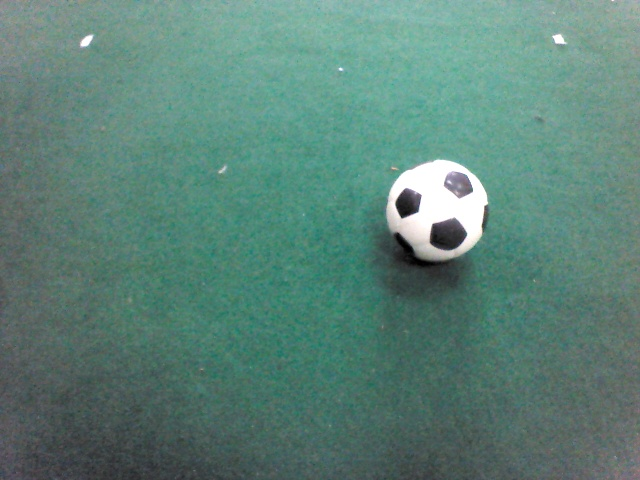ball: (384, 156, 491, 265)
